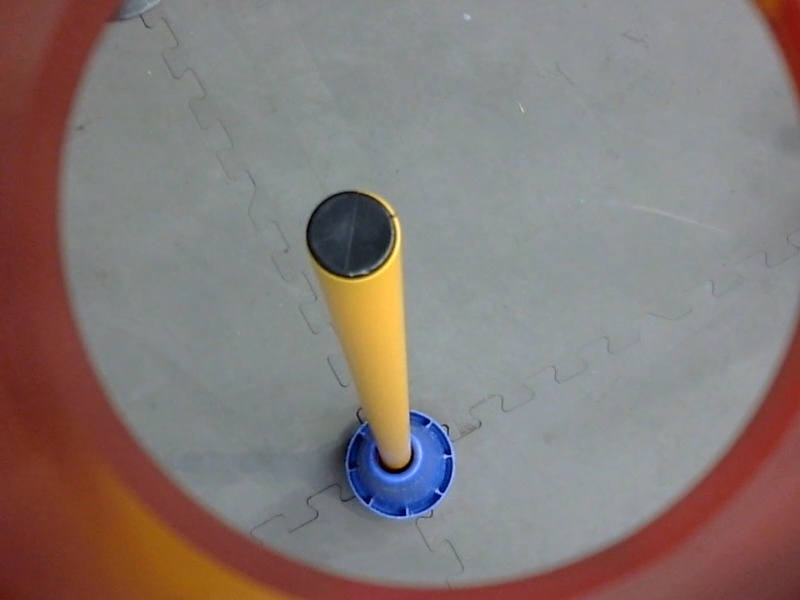tip: (300, 183, 406, 290)
